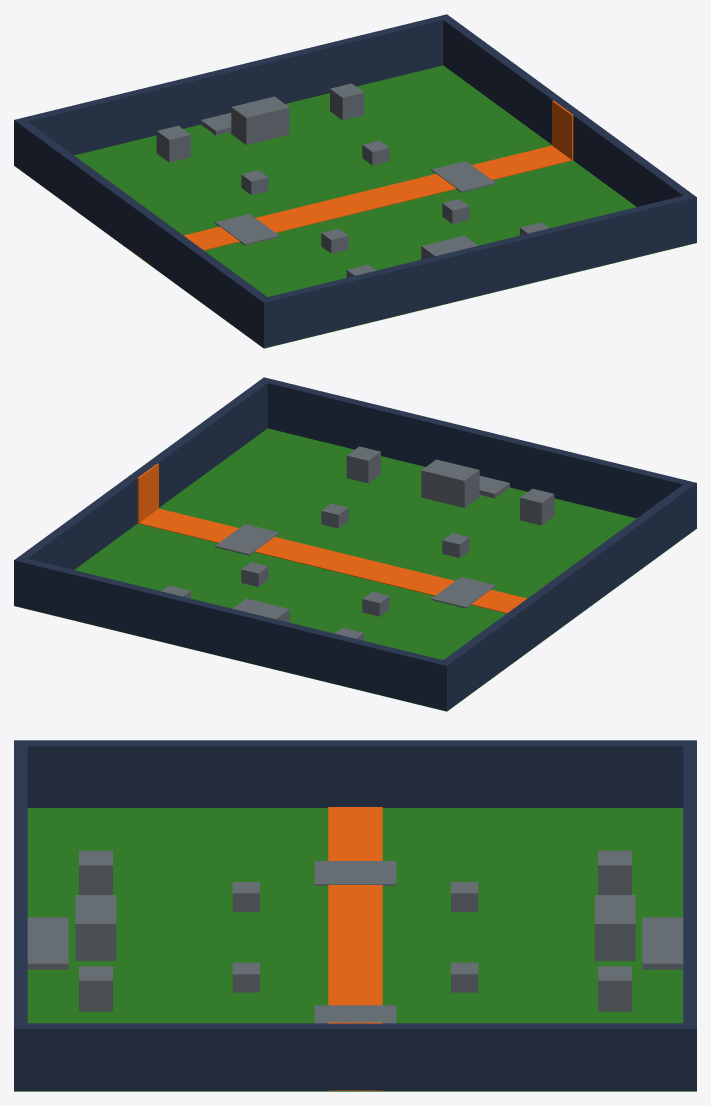
File: arena.obj
3 views of the same model, one above another, from view 1: azimuth 30°, elevation 25°; view 2: azimuth 150°, elevation 25°; view 3: azimuth 270°, elevation 25° (orthographic). The views are drawn at different scales.
Visible parts, largest first — view 1: Suelo_Pasto, Muro_Sur, Muro_Norte, Muro_Oeste, Muro_Este, Rio_Lava, Torre_Norte, Puente_Este, Puente_Oeste, Caja_NO, Caja_NE, Cascada_Lava (+5 smaller); view 2: Suelo_Pasto, Muro_Norte, Muro_Sur, Muro_Oeste, Muro_Este, Rio_Lava, Torre_Sur, Puente_Este, Puente_Oeste, Caja_SO, Caja_SE, Cascada_Lava (+5 smaller); view 3: Suelo_Pasto, Muro_Este, Muro_Oeste, Rio_Lava, Muro_Norte, Muro_Sur, Torre_Norte, Torre_Sur, Spawn_Norte, Spawn_Sur, Puente_Oeste, Caja_NE (+8 smaller).
Boxes of the visible parts, x1,y1,x2,y2 form: Suelo_Pasto: (14, 65, 696, 348); Muro_Sur: (259, 193, 696, 347); Muro_Norte: (14, 14, 451, 168); Muro_Oeste: (19, 121, 267, 344); Muro_Este: (443, 18, 691, 206); Rio_Lava: (129, 145, 573, 263); Torre_Norte: (231, 96, 289, 144); Puente_Este: (431, 161, 495, 192); Puente_Oeste: (215, 214, 279, 245); Caja_NO: (156, 125, 190, 162); Caja_NE: (330, 83, 364, 120); Cascada_Lava: (552, 100, 573, 159); Suelo_Pasto: (14, 428, 696, 711); Muro_Norte: (14, 556, 451, 710); Muro_Sur: (259, 377, 696, 531); Muro_Oeste: (443, 484, 691, 707); Muro_Este: (19, 381, 267, 569); Rio_Lava: (137, 508, 527, 613); Torre_Sur: (421, 459, 479, 507); Puente_Este: (215, 524, 279, 555); Puente_Oeste: (431, 577, 495, 608); Caja_SO: (520, 488, 554, 525); Caja_SE: (346, 446, 380, 483); Cascada_Lava: (137, 463, 158, 522); Suelo_Pasto: (14, 808, 696, 1091); Muro_Este: (27, 1023, 683, 1090); Muro_Oeste: (27, 740, 683, 807); Rio_Lava: (328, 807, 382, 1090); Muro_Norte: (683, 740, 696, 1090); Muro_Sur: (14, 740, 27, 1090); Torre_Norte: (594, 895, 635, 960); Torre_Sur: (75, 895, 116, 960); Spawn_Norte: (642, 917, 683, 969); Spawn_Sur: (27, 917, 68, 969); Puente_Oeste: (314, 861, 396, 885); Caja_NE: (598, 966, 631, 1011).
Bounding box in the file's own units: 100 × 10.1 × 100.
